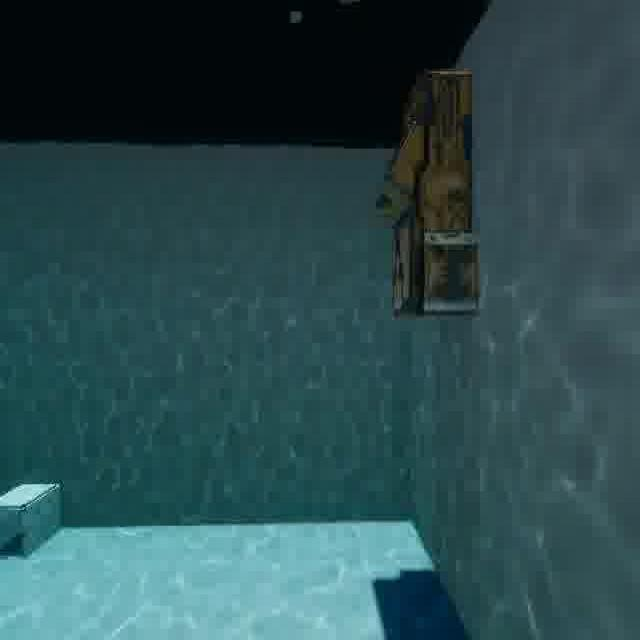Control Panel: (368, 60, 489, 325)
Docking Station: (1, 473, 69, 566)
